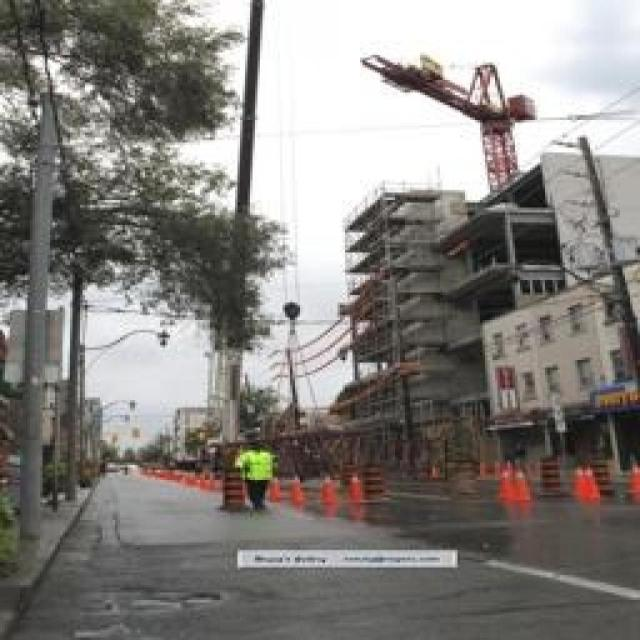Helmet: (239, 419, 275, 457)
Safety Vest: (235, 447, 289, 501)
